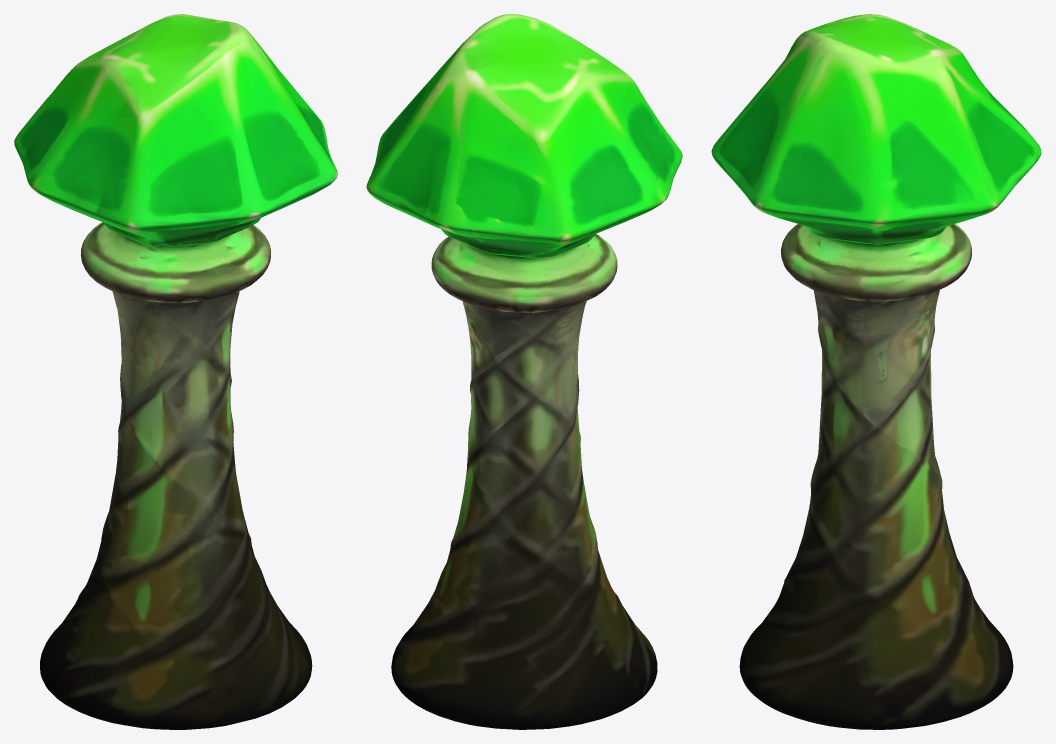
Rendered from Balise.fbx.
The picture shows the model from 3 angles, left to right: view 1: azimuth 30°, elevation 25°; view 2: azimuth 150°, elevation 25°; view 3: azimuth 270°, elevation 25°; orthographic projection. The views are drawn at different scales.
Visible parts, largest first — view 1: Mesh_0; view 2: Mesh_0; view 3: Mesh_0.
Boxes of the visible parts, bbox=[...] form: Mesh_0: bbox=[14, 14, 337, 729]; Mesh_0: bbox=[366, 14, 682, 729]; Mesh_0: bbox=[711, 14, 1041, 729].
Size of the model in its own units: 86.35 by 190 by 86.42.
Materials: 1 (1 with a texture image).
